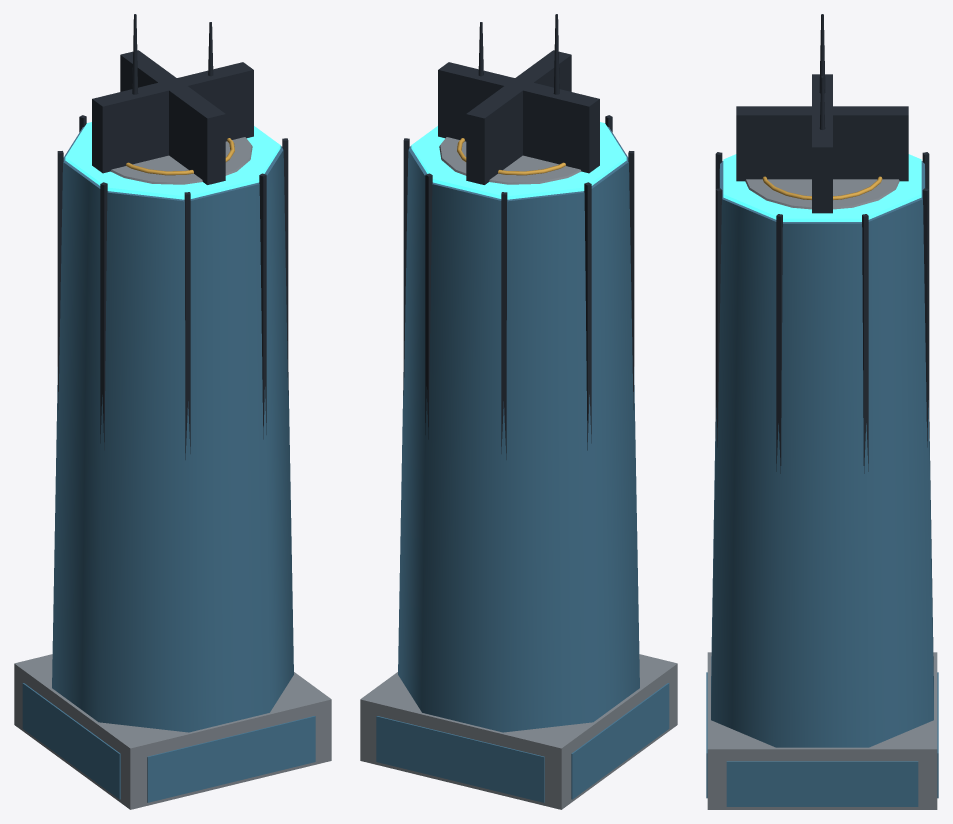
Rendered from building_tower.glb.
3 renders of one model, left to right at view 1: azimuth 30°, elevation 25°; view 2: azimuth 150°, elevation 25°; view 3: azimuth 270°, elevation 25°, orthographic.
Parts seen in each view (by area): view 1: building_tower; view 2: building_tower; view 3: building_tower.
Boxes of the visible parts, x1=… form: building_tower: x1=14, y1=14, x2=331, y2=809; building_tower: x1=360, y1=14, x2=677, y2=809; building_tower: x1=706, y1=14, x2=938, y2=809.
Size of the model in its own units: 24.3 by 84 by 24.3.
